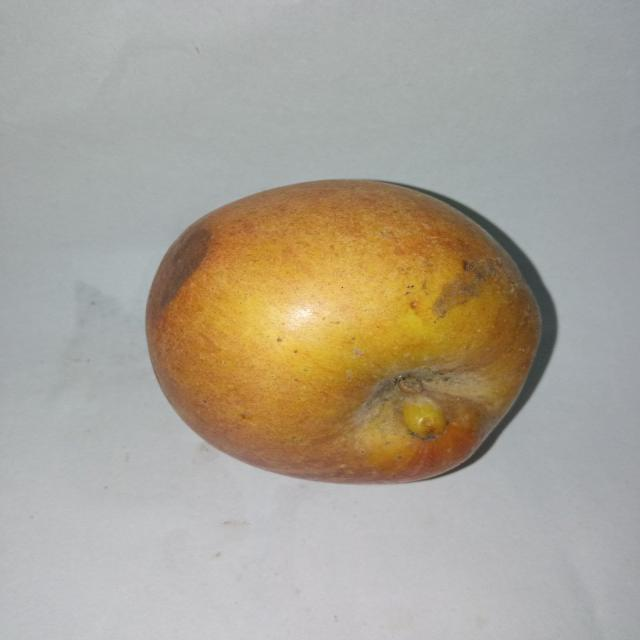rotten_apple: (143, 180, 543, 484)
